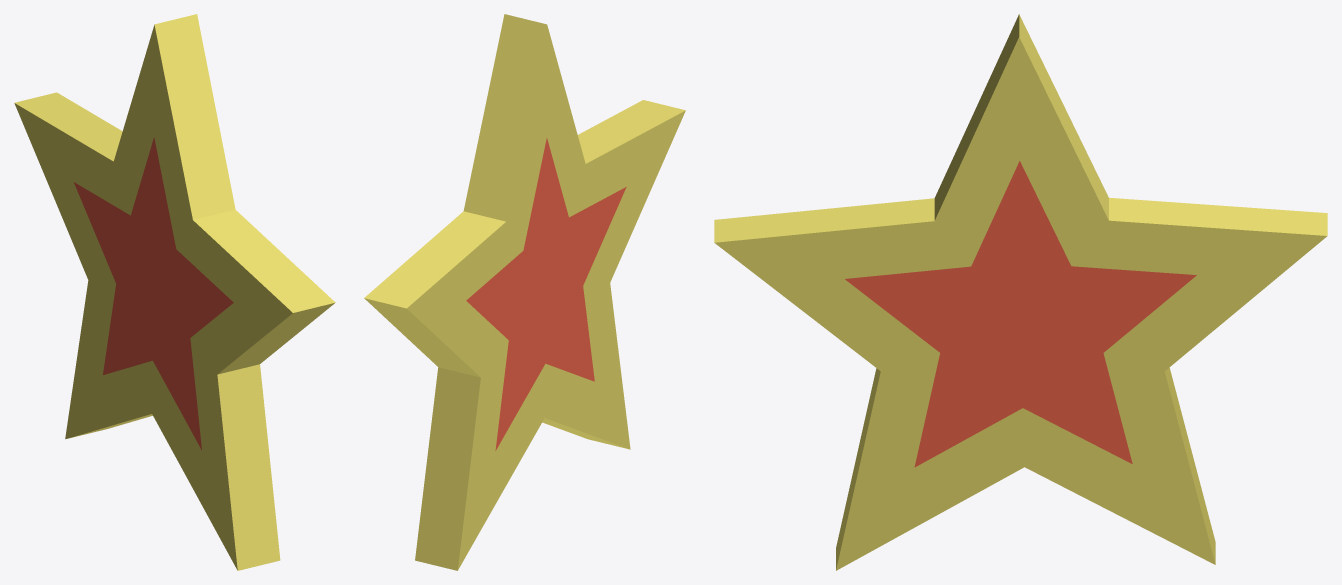
The model's file is fame.fbx.
3 renders of one model, left to right at view 1: azimuth 30°, elevation 25°; view 2: azimuth 150°, elevation 25°; view 3: azimuth 270°, elevation 25°, orthographic. The views are drawn at different scales.
Visible parts, largest first — view 1: Plane; view 2: Plane; view 3: Plane.
Boxes of the visible parts, bbox=[...] form: Plane: bbox=[14, 14, 335, 570]; Plane: bbox=[364, 14, 685, 570]; Plane: bbox=[714, 14, 1327, 570].
Size of the model in its own units: 0.5526 by 6.01 by 6.25.
